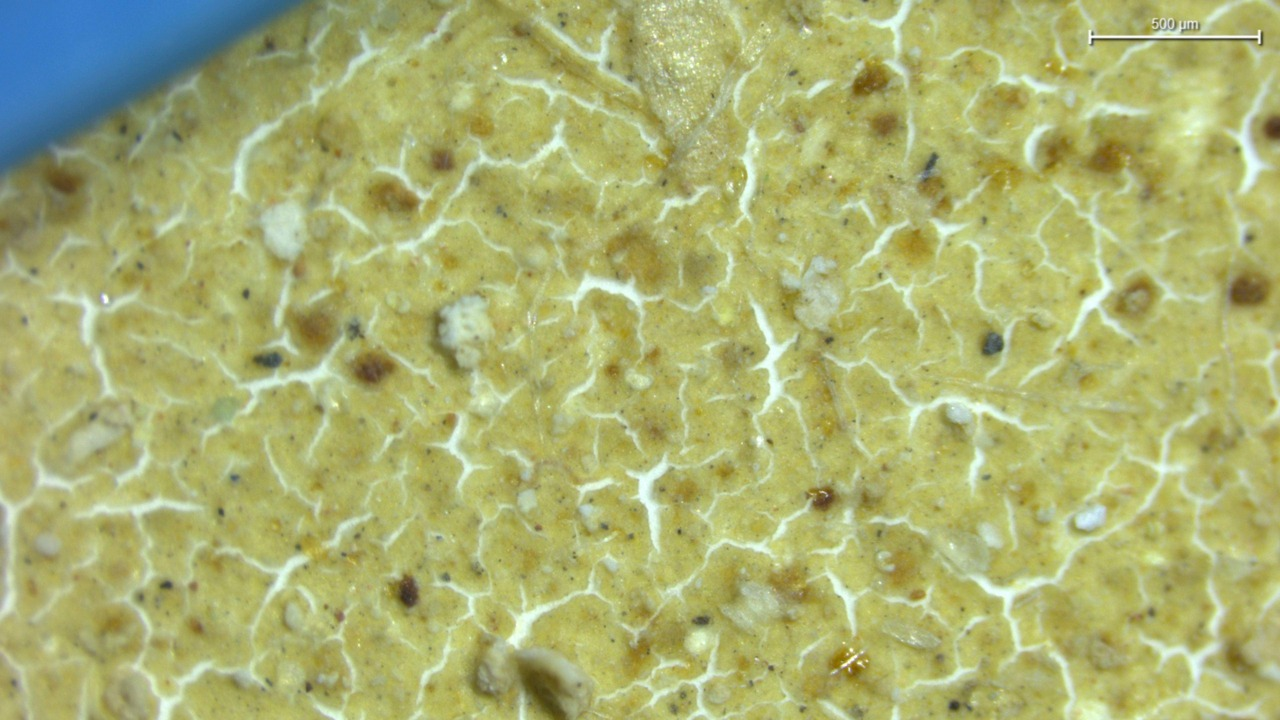microplastic_fragment: (438, 295, 493, 370), (259, 201, 306, 261), (1073, 504, 1106, 531)
